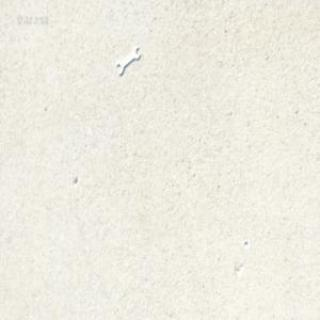Wrenchtrack_idkeyframe: (116, 46, 139, 76)
